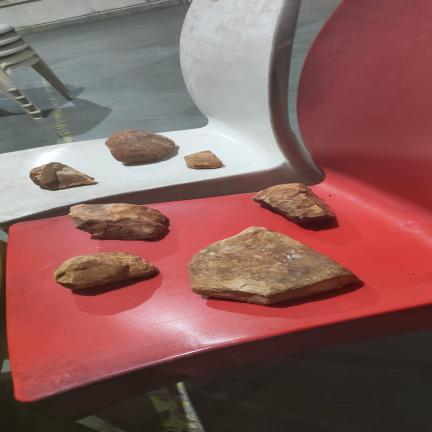Rocks: (189, 227, 358, 304), (54, 252, 154, 289), (69, 204, 168, 239), (253, 184, 334, 223), (106, 130, 174, 162), (30, 163, 94, 189), (185, 151, 224, 169)
